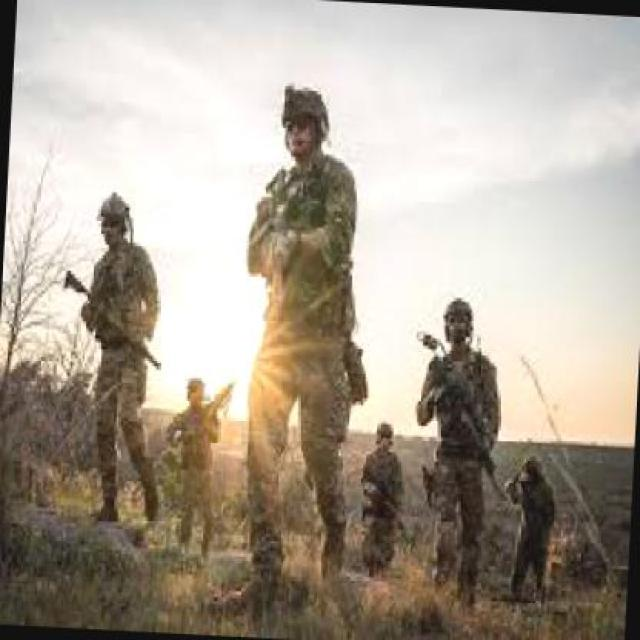MIL_Pax: (226, 84, 379, 604), (402, 291, 506, 607), (67, 187, 165, 519), (164, 368, 221, 567), (498, 454, 557, 604), (357, 413, 405, 576)
